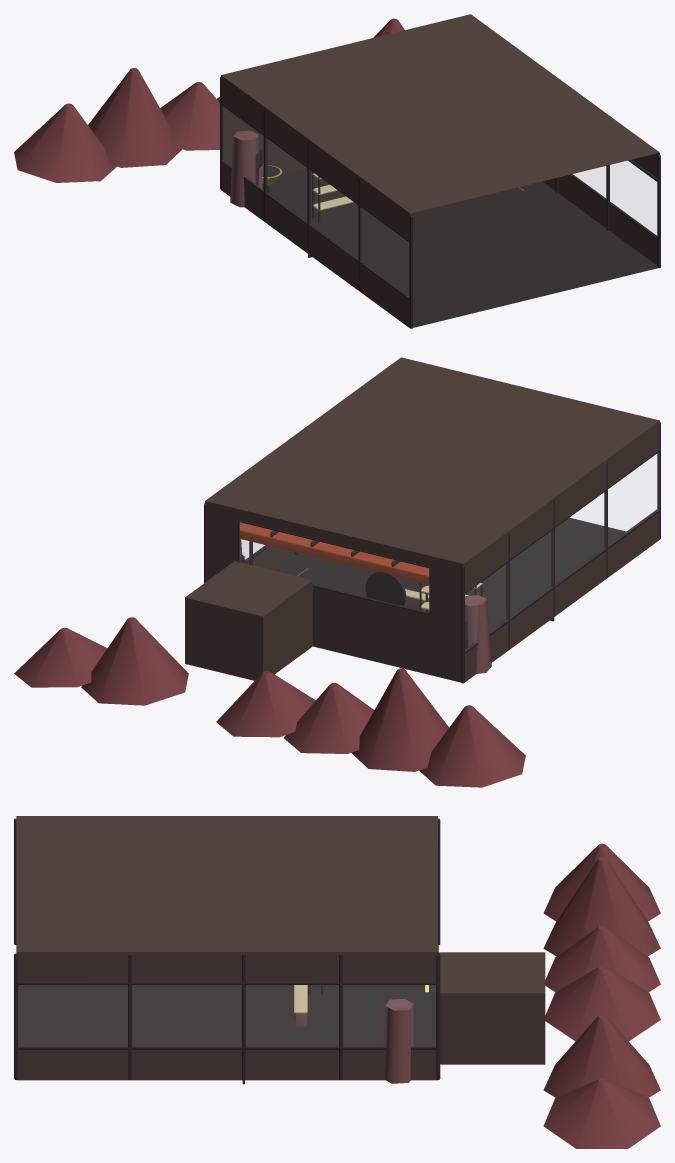
Rendered from depot.glb.
The picture shows the model from 3 angles, top to bottom: view 1: azimuth 30°, elevation 25°; view 2: azimuth 150°, elevation 25°; view 3: azimuth 270°, elevation 25°; orthographic projection. The views are drawn at different scales.
Parts seen in each view (by area): view 1: Roof panels - Wall, Floor extension - Floor, Outside the glazing - Glass rim, Port wall - Wall, Floor - Floor, Port wall - Rib, Starboard wall - Wall, Signature architecture - Secondary, Rear bulkhead - Wall, Starboard wall - Rib, Goods shelf - Pale; view 2: Roof panels - Wall, Outside the glazing - Glass rim, Rear bulkhead - Wall, Port wall - Wall, Stockroom - Wall, Floor extension - Floor, Store lid - Wall, Port wall - Rib, Signature architecture - Accent, Floor - Floor, Signature architecture - Secondary, Signature architecture - Rib (+2 smaller); view 3: Roof panels - Wall, Outside the glazing - Glass rim, Starboard wall - Wall, Floor extension - Floor, Floor - Floor, Stockroom - Wall, Starboard wall - Rib, Store lid - Wall, Signature architecture - Secondary, Port wall - Rib.
Part boxes in pixels (bbox=[...]): Roof panels - Wall: bbox=[221, 14, 659, 213]; Floor extension - Floor: bbox=[341, 193, 657, 327]; Outside the glazing - Glass rim: bbox=[14, 18, 404, 182]; Port wall - Wall: bbox=[221, 75, 410, 327]; Floor - Floor: bbox=[269, 169, 555, 245]; Port wall - Rib: bbox=[220, 77, 412, 328]; Starboard wall - Wall: bbox=[542, 153, 659, 265]; Signature architecture - Secondary: bbox=[230, 130, 263, 207]; Rear bulkhead - Wall: bbox=[223, 107, 307, 175]; Starboard wall - Rib: bbox=[555, 154, 660, 268]; Goods shelf - Pale: bbox=[312, 173, 353, 210]; Roof panels - Wall: bbox=[205, 357, 659, 563]; Outside the glazing - Glass rim: bbox=[14, 617, 525, 787]; Rear bulkhead - Wall: bbox=[205, 501, 463, 682]; Port wall - Wall: bbox=[464, 421, 659, 682]; Stockroom - Wall: bbox=[185, 580, 312, 680]; Floor extension - Floor: bbox=[297, 517, 626, 608]; Store lid - Wall: bbox=[185, 561, 312, 616]; Port wall - Rib: bbox=[461, 422, 660, 683]; Signature architecture - Accent: bbox=[240, 522, 429, 584]; Floor - Floor: bbox=[273, 554, 519, 631]; Signature architecture - Secondary: bbox=[240, 539, 491, 673]; Signature architecture - Rib: bbox=[240, 530, 467, 649]; Roof panels - Wall: bbox=[16, 816, 437, 951]; Outside the glazing - Glass rim: bbox=[543, 843, 660, 1148]; Starboard wall - Wall: bbox=[16, 952, 437, 1080]; Floor extension - Floor: bbox=[18, 985, 241, 1046]; Floor - Floor: bbox=[246, 985, 435, 1046]; Stockroom - Wall: bbox=[440, 993, 545, 1064]; Starboard wall - Rib: bbox=[14, 953, 440, 1079]; Store lid - Wall: bbox=[438, 952, 545, 993]; Signature architecture - Secondary: bbox=[383, 998, 414, 1083]; Port wall - Rib: bbox=[14, 818, 440, 944].
Size of the model in its own units: 36.79 by 9.43 by 38.64.
